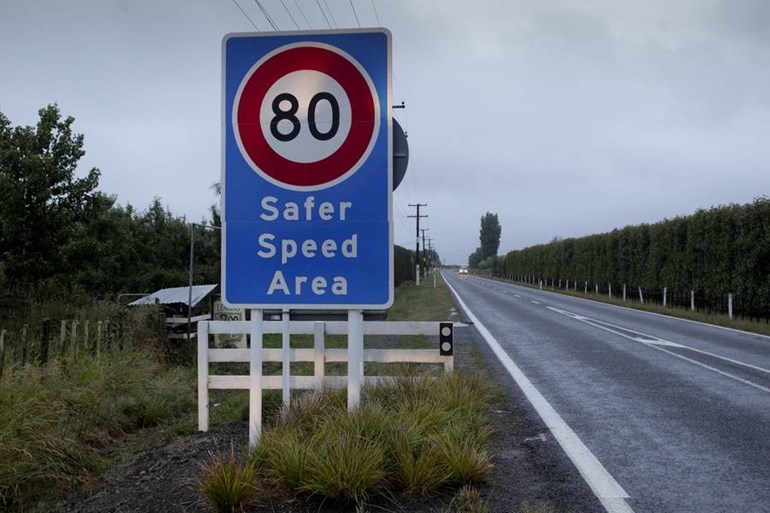Speed_limit_80km: (230, 42, 380, 190)
